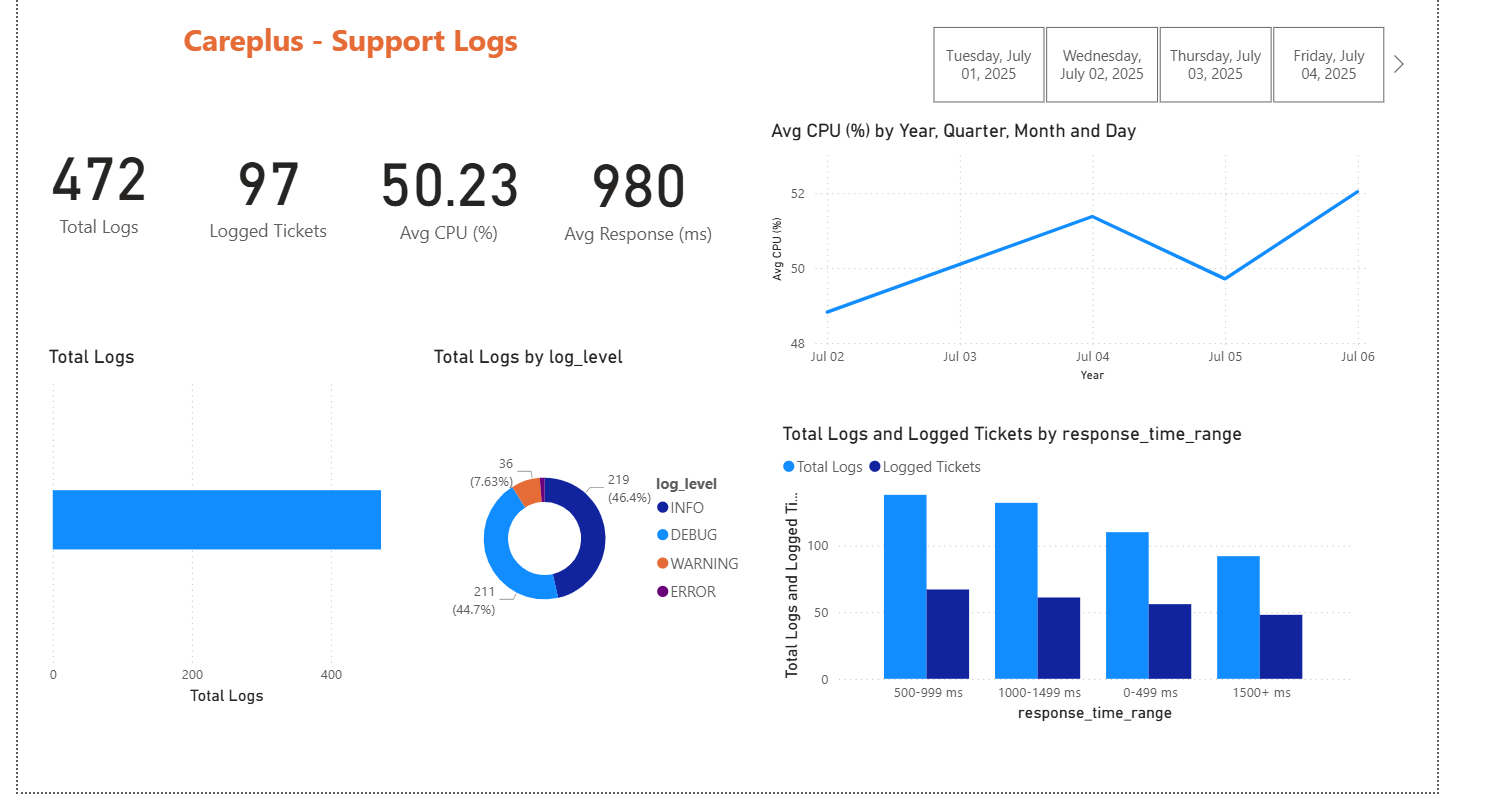

What the dashboard file says about the page in this screenshot:
{"tool":"powerbi","page":{"name":"support_logs","canvas":[1280,720],"ordinal":1},"visuals":[{"type":"card","fields":{"Values":["key_measures.Total Logs"]},"box":[0,114.1,146.3,114.1],"z":0},{"type":"card","fields":{"Values":["key_measures.Logged Tickets"]},"box":[154.1,122,142.4,106.3],"z":1000},{"type":"card","fields":{"Values":["key_measures.Avg CPU (%)"]},"box":[314.1,118,148.3,115.1],"z":2000},{"type":"card","fields":{"Values":["key_measures.Avg Response (ms)"]},"box":[485.9,118,147.3,117.1],"z":3000},{"type":"lineChart","fields":{"Y":["key_measures.Avg CPU (%)"],"Category":["dim_date.date.Variation.Date Hierarchy.Year","dim_date.date.Variation.Date Hierarchy.Quarter","dim_date.date.Variation.Date Hierarchy.Month","dim_date.date.Variation.Date Hierarchy.Day"]},"box":[674.1,112.2,555.1,242],"z":4000},{"type":"slicer","fields":{"Values":["dim_date.date"]},"box":[799,22.1,457.1,82],"z":5000},{"type":"donutChart","fields":{"Category":["support_logs.log_level"],"Y":["key_measures.Total Logs"]},"box":[369.8,317.1,294.6,329.8],"z":6000},{"type":"barChart","fields":{"Y":["key_measures.Total Logs"]},"box":[22.4,317.1,337.6,328.8],"z":7000},{"type":"clusteredColumnChart","fields":{"Category":["support_logs.response_time_range"],"Y":["key_measures.Total Logs","key_measures.Logged Tickets"]},"box":[683.8,386.1,522.5,274.6],"z":8000},{"type":"textbox","box":[144.7,18.4,381.2,63.7],"z":9000}]}

Visuals, with their boxes on the page's 1280x720 design canvas (x1, y1, x2, y2). These are canvas units, not pixel positions in the 1497x802 screenshot, which may show the page scaled, cropped or inside an application window:
card - key_measures.Total Logs: bbox(0, 114, 146, 228)
card - key_measures.Logged Tickets: bbox(154, 122, 296, 228)
card - key_measures.Avg CPU (%): bbox(314, 118, 462, 233)
card - key_measures.Avg Response (ms): bbox(486, 118, 633, 235)
lineChart - key_measures.Avg CPU (%) x dim_date.date.Variation.Date Hierarchy.Year: bbox(674, 112, 1229, 354)
slicer - dim_date.date: bbox(799, 22, 1256, 104)
donutChart - support_logs.log_level x key_measures.Total Logs: bbox(370, 317, 664, 647)
barChart - key_measures.Total Logs: bbox(22, 317, 360, 646)
clusteredColumnChart - support_logs.response_time_range x key_measures.Total Logs: bbox(684, 386, 1206, 661)
textbox: bbox(145, 18, 526, 82)
